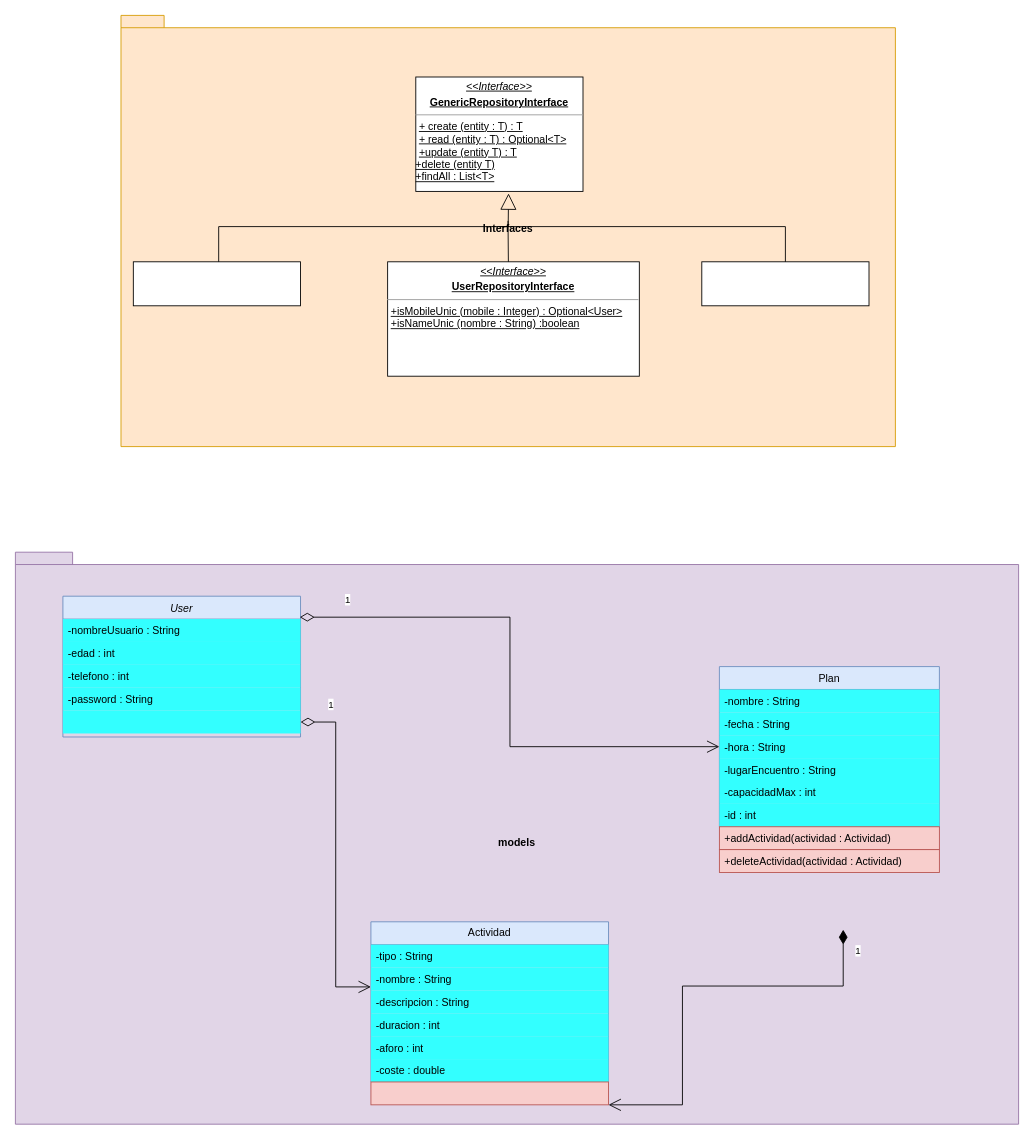
The diagram is 1034 pixels wide and 1140 high, and some of its shapes have lost their labels. Each missing label, with the centre of its shape:
+aplicarDto(user : User) : double: pixel 489 1093
-id : Integer: pixel 181 721
<<Interface>> ActividadRepositoryInterface: pixel 216 283
<<Interface>> PlanRepositoryInterface: pixel 785 283
